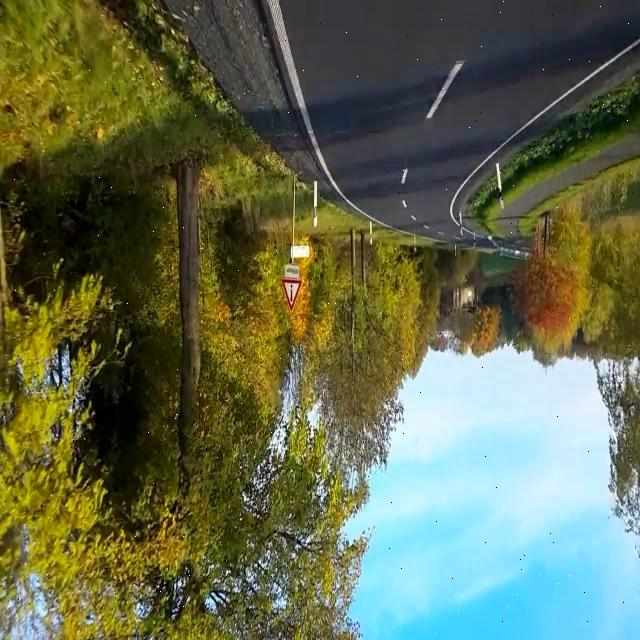lane: (449, 37, 639, 223), (266, 1, 374, 220), (427, 61, 464, 119), (402, 168, 408, 184)
road: (281, 1, 640, 241), (281, 1, 640, 240), (167, 1, 328, 183)
